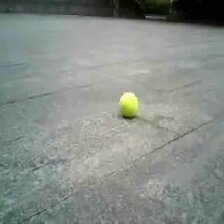tennis: (119, 91, 139, 116)
